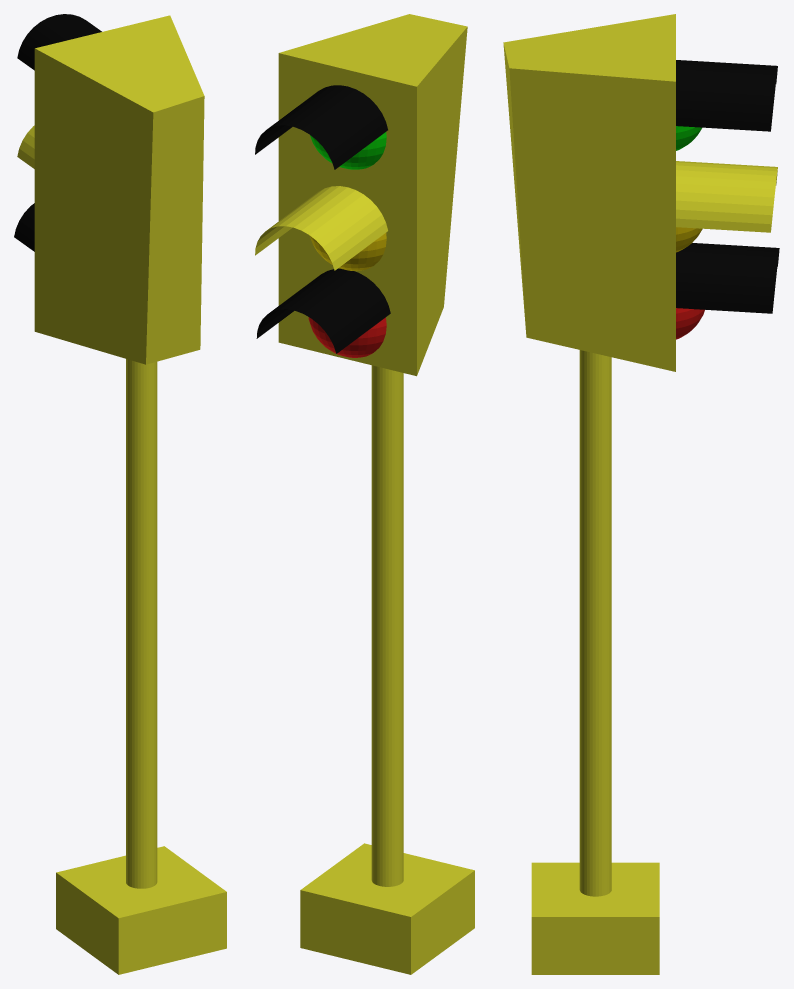
File: semaforo.obj
3 views of the same model, side by side, from view 1: azimuth 30°, elevation 25°; view 2: azimuth 150°, elevation 25°; view 3: azimuth 270°, elevation 25° (orthographic). The views are drawn at different scales.
Parts seen in each view (by area): view 1: Semaforo; view 2: Semaforo; view 3: Semaforo.
Part boxes in pixels (<box>): Semaforo: <box>14,14,226,974</box>; Semaforo: <box>255,14,474,974</box>; Semaforo: <box>503,14,779,974</box>.
Size of the model in its own units: 1 by 6.2 by 1.72.
